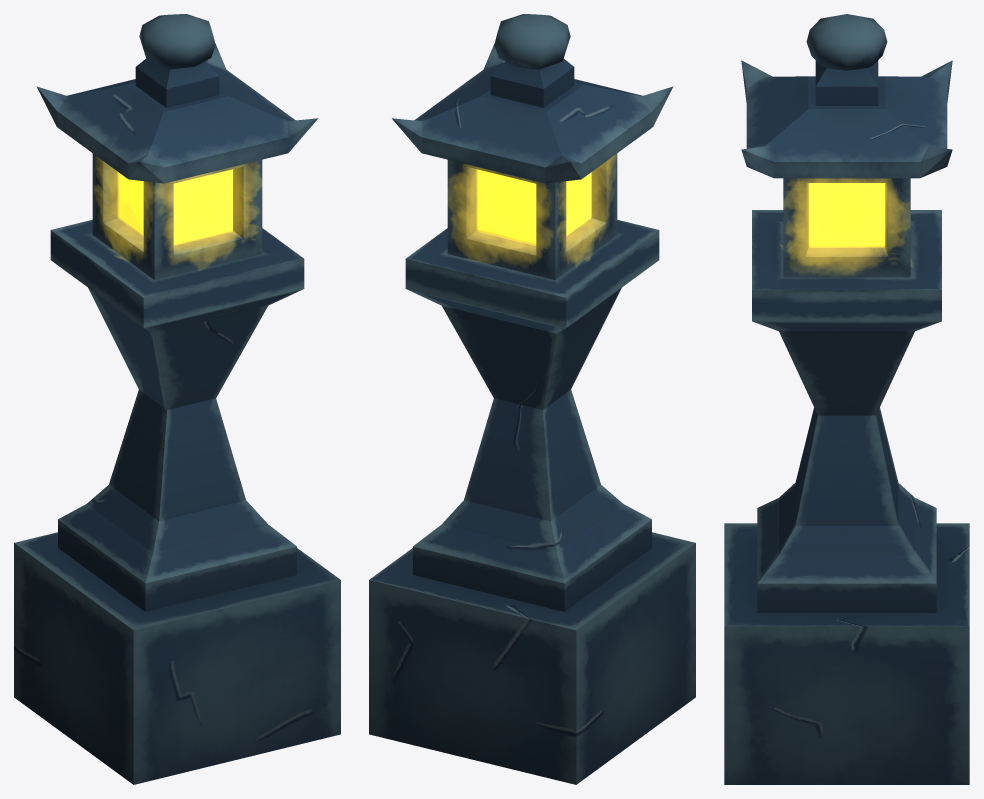
File: Japanese_Lantern.glb
3 renders of one model, left to right at view 1: azimuth 30°, elevation 25°; view 2: azimuth 150°, elevation 25°; view 3: azimuth 270°, elevation 25°, orthographic. The views are drawn at different scales.
Parts seen in each view (by area): view 1: Plane; view 2: Plane; view 3: Plane.
Boxes of the visible parts, x1,y1,x2,y2 form: Plane: (14,14,340,784); Plane: (369,14,695,784); Plane: (724,14,969,784).
Bounding box in the file's own units: 91.98 × 295 × 91.98.
1 material, 1 textured.
